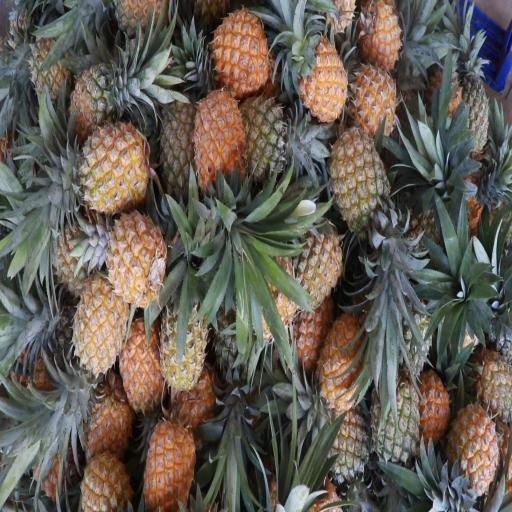------------------------------: (322, 91, 388, 220), (59, 41, 134, 140), (159, 284, 209, 400), (233, 88, 293, 184)
Pineapple - v8 v1: (56, 104, 150, 219), (184, 68, 248, 198), (104, 205, 166, 318), (67, 259, 129, 371), (312, 300, 370, 417), (288, 25, 353, 123), (139, 405, 196, 512), (337, 56, 400, 152), (446, 386, 496, 502), (208, 0, 267, 96), (286, 211, 344, 308), (115, 312, 167, 412), (73, 432, 131, 512), (360, 0, 412, 73)
